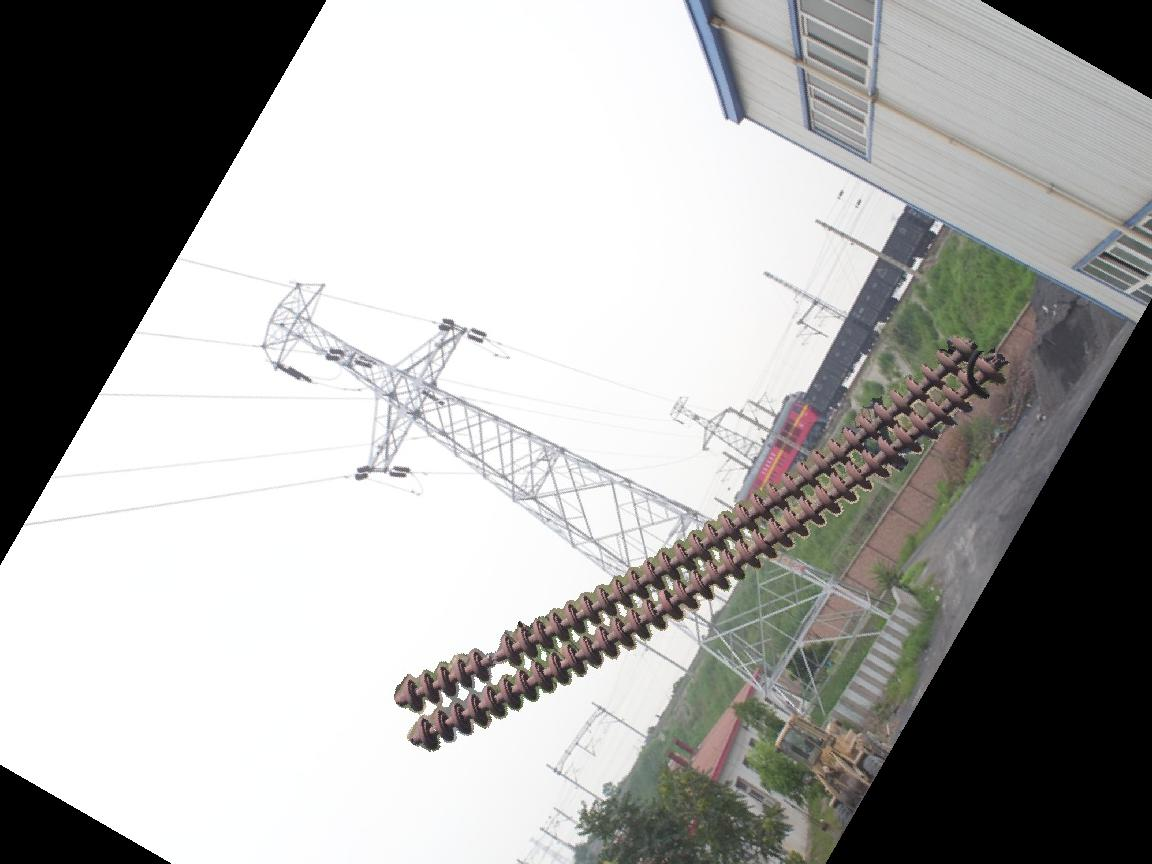insulator: (391, 328, 1021, 754)
insulator_stringdrop: (465, 629, 523, 683)
